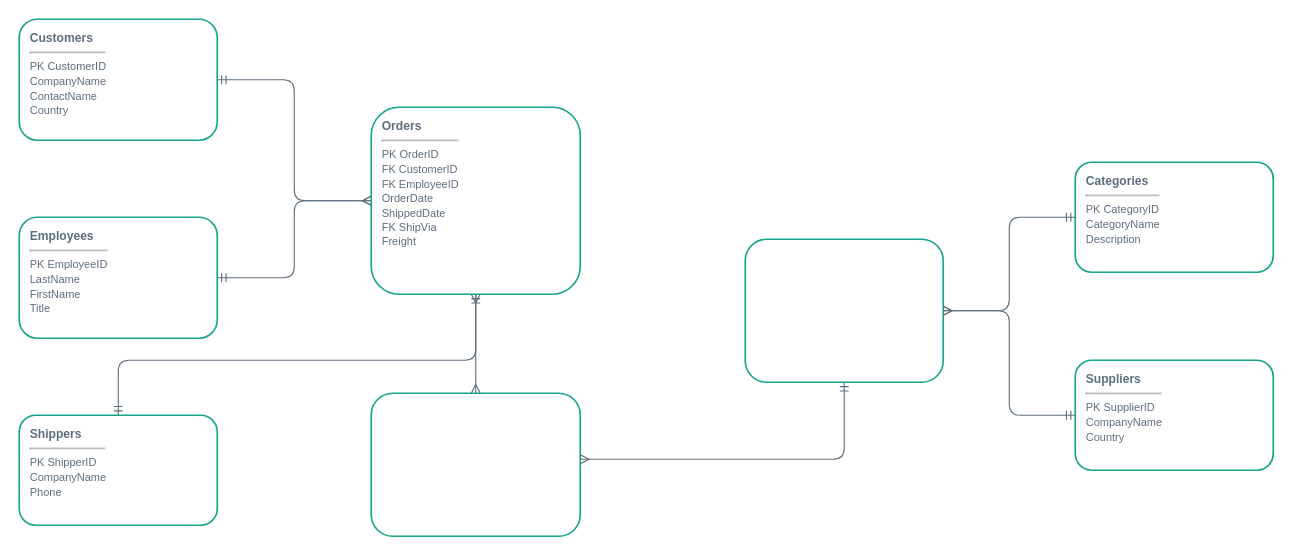
Image size: 1294x557. Some labels were removed from this diagram. The centre of each missing label's shape, as x and y in pixels:
"OrderDetails PK,FK OrderID PK,FK ProductID UnitPrice Quantity Discount" belongs at (475,464).
"Products PK ProductID ProductName FK SupplierID FK CategoryID UnitPrice" belongs at (844,310).
